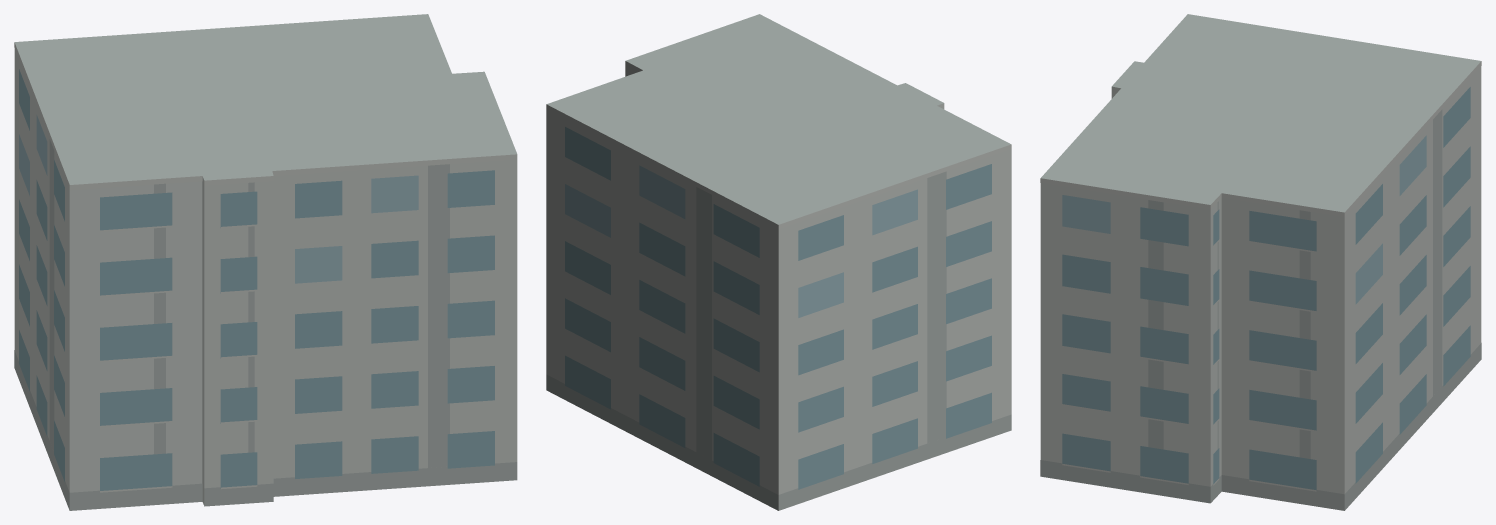
The model's file is survey-upis-32532028.glb.
The picture shows the model from 3 angles, left to right: view 1: azimuth 30°, elevation 25°; view 2: azimuth 150°, elevation 25°; view 3: azimuth 270°, elevation 25°; orthographic projection. The views are drawn at different scales.
Visible parts, largest first — view 1: survey-upis-32532028.tmp; view 2: survey-upis-32532028.tmp; view 3: survey-upis-32532028.tmp.
Part boxes in pixels (x1,y1,x2,y2): survey-upis-32532028.tmp: [14, 14, 517, 510]; survey-upis-32532028.tmp: [546, 14, 1011, 510]; survey-upis-32532028.tmp: [1040, 14, 1481, 510].
Size of the model in its own units: 21.76 by 15.25 by 20.43.
